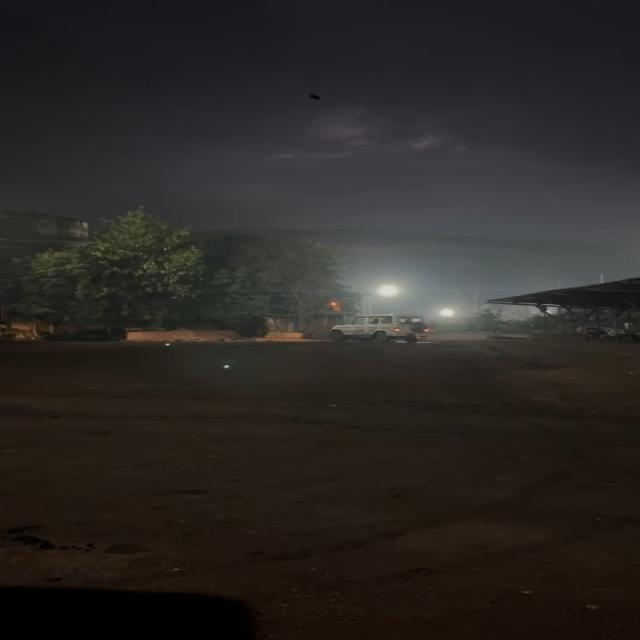light_vehicle: (330, 313, 431, 343)
